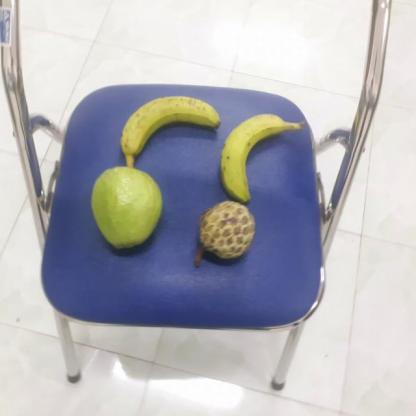annona: (194, 202, 255, 261)
banana: (116, 95, 219, 163), (214, 114, 290, 200)
guava: (88, 168, 162, 249)
